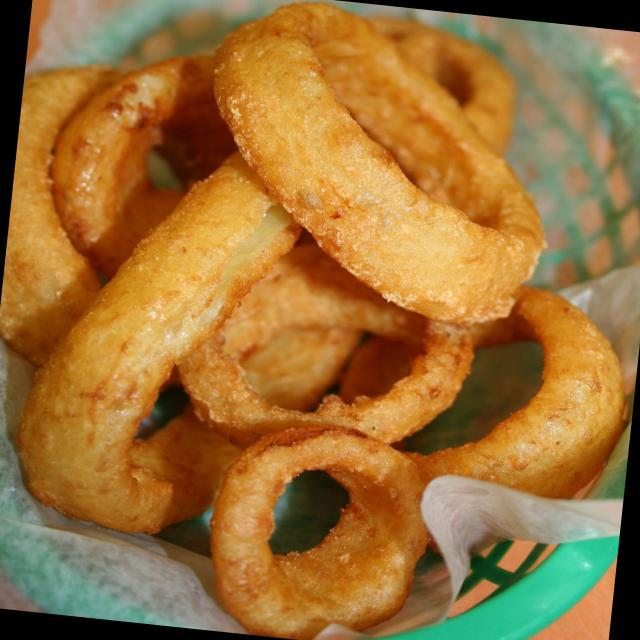ONIONS: (46, 52, 504, 574)
